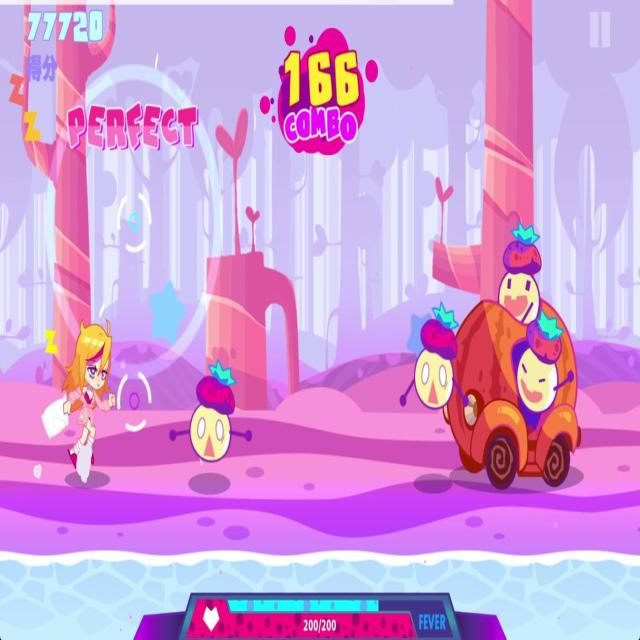cheboss: (439, 210, 587, 496)
qiu: (166, 349, 256, 469), (398, 293, 470, 422)
